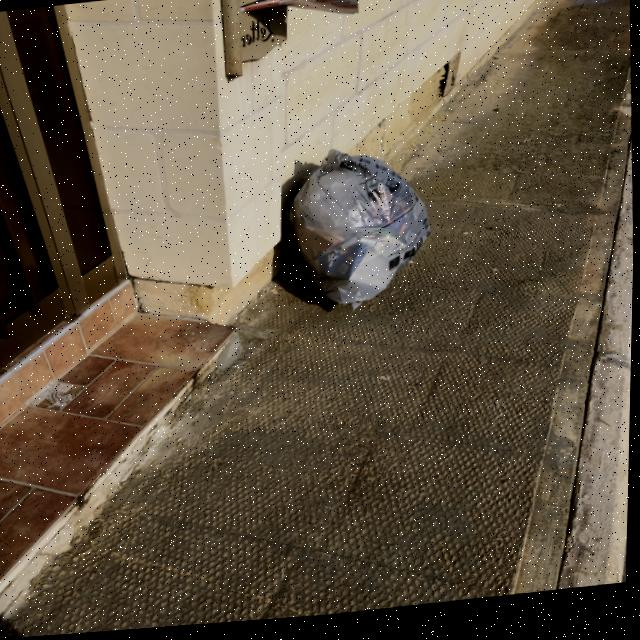Recycled Waste -Grey or Green Bag-: (282, 143, 439, 329)
